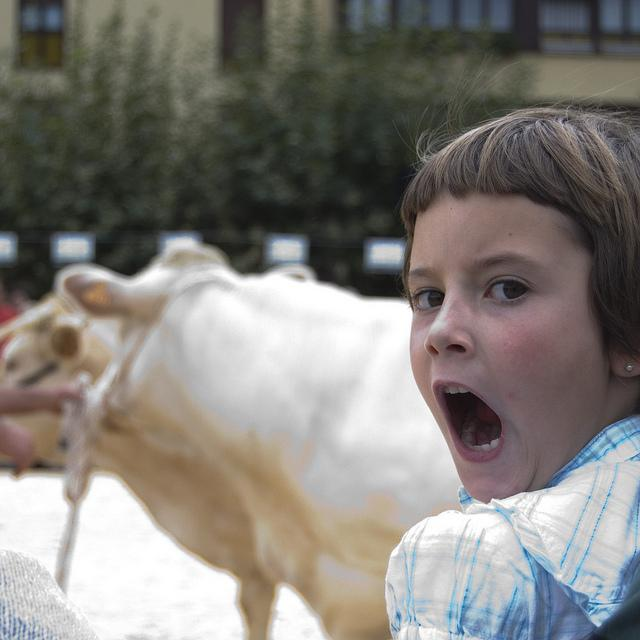cow: (0, 245, 451, 629)
